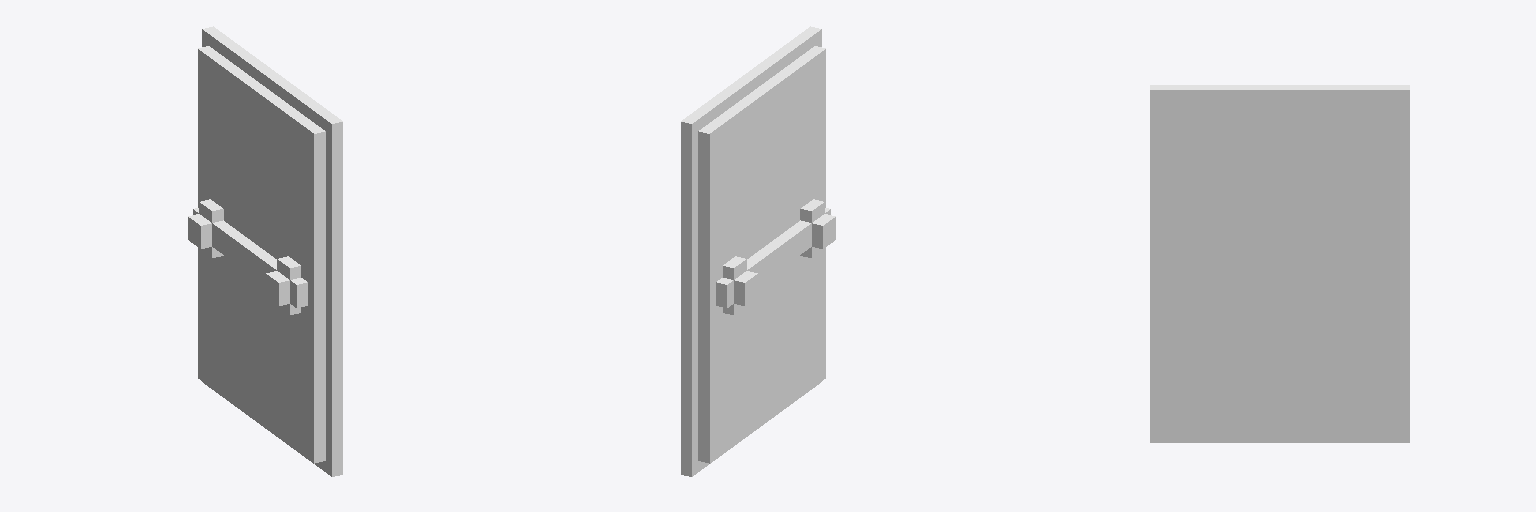
Rendered from 31-Palanca-1.obj.
3 views of the same model, side by side, from view 1: azimuth 30°, elevation 25°; view 2: azimuth 150°, elevation 25°; view 3: azimuth 270°, elevation 25° (orthographic).
Visible parts, largest first — view 1: object 1; view 2: object 1; view 3: object 1.
Part boxes in pixels (x1,y1,x2,y2): object 1: (188, 26, 342, 476); object 1: (681, 26, 835, 476); object 1: (1150, 85, 1409, 442).
Bounding box in the file's own units: 0.4 × 3 × 2.